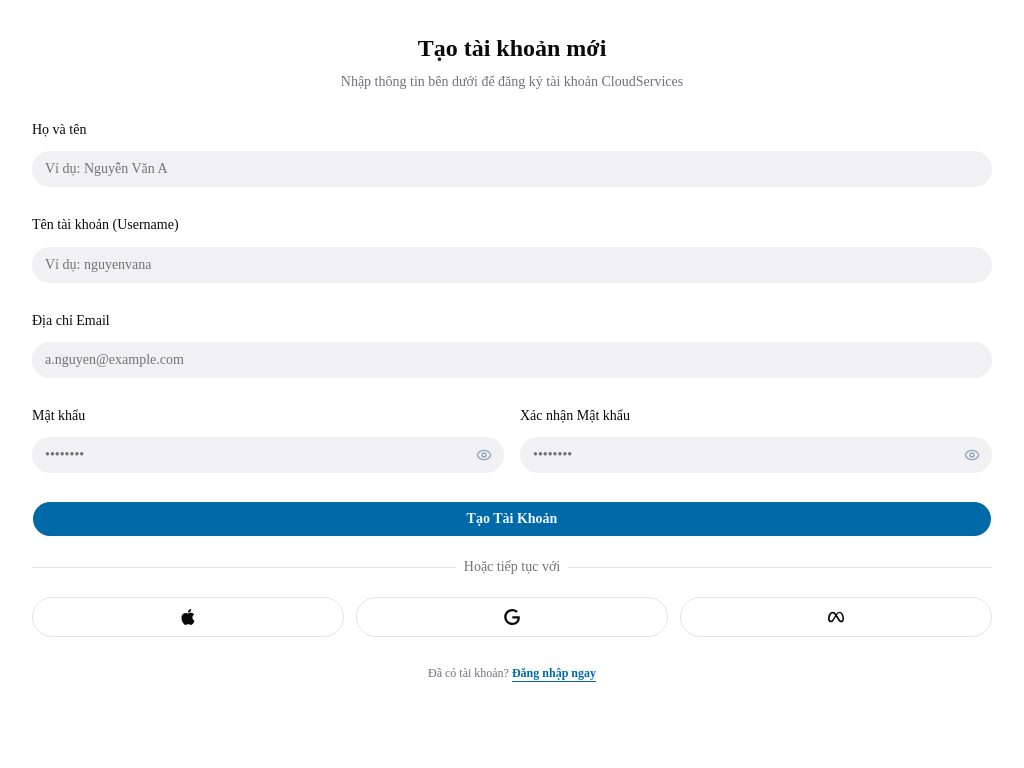
it: RegisterForm Component › should display errors when required fields are empty on submit
This screenshot has width=1024, height=768.
Click the button "Tạo Tài Khoản". click: (512, 519)
box: [32,501,992,537]
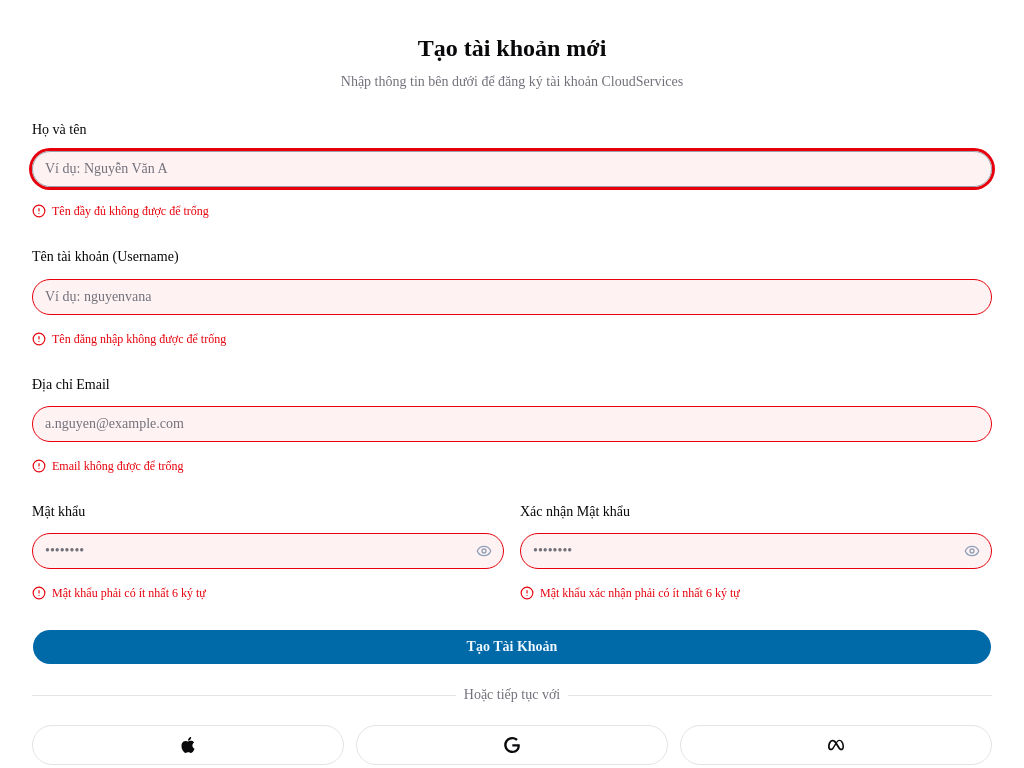
Now the text "Tên đầy đủ không được để trống" is shown, box [52,203,209,219]
Now the text "Tên đăng nhập không được để trống" is shown, box [52,330,226,346]
Now the text "Email không được để trống" is shown, box [52,458,184,474]
